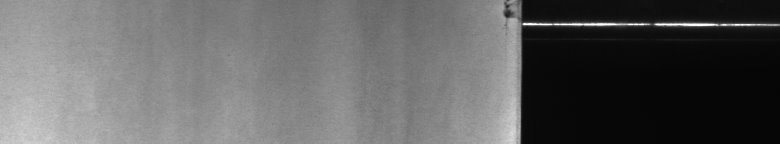hb: (496, 4, 512, 30)
